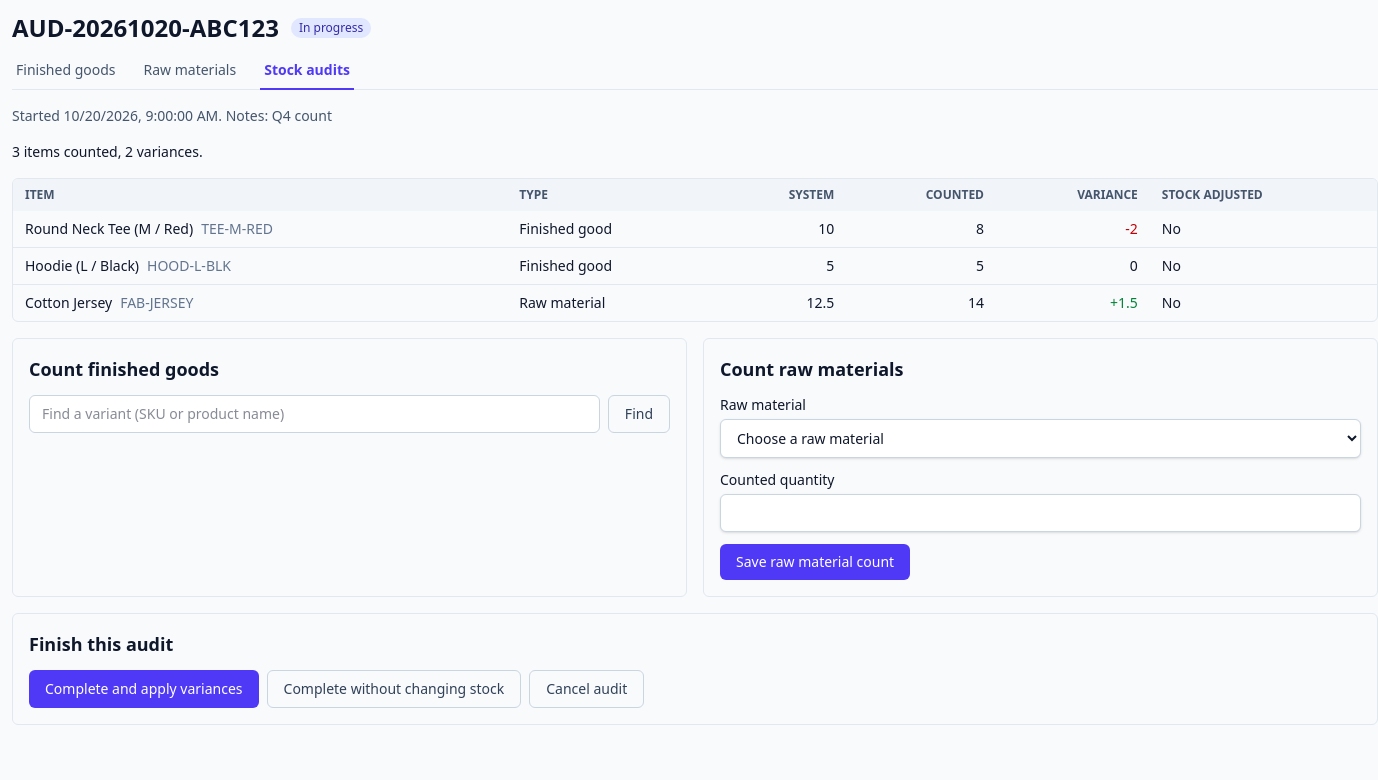
Test case: AuditDetailPage › applies variances only after an explicit confirmation
Click the button "Complete and apply variances": (144, 689) [29, 670, 258, 708]
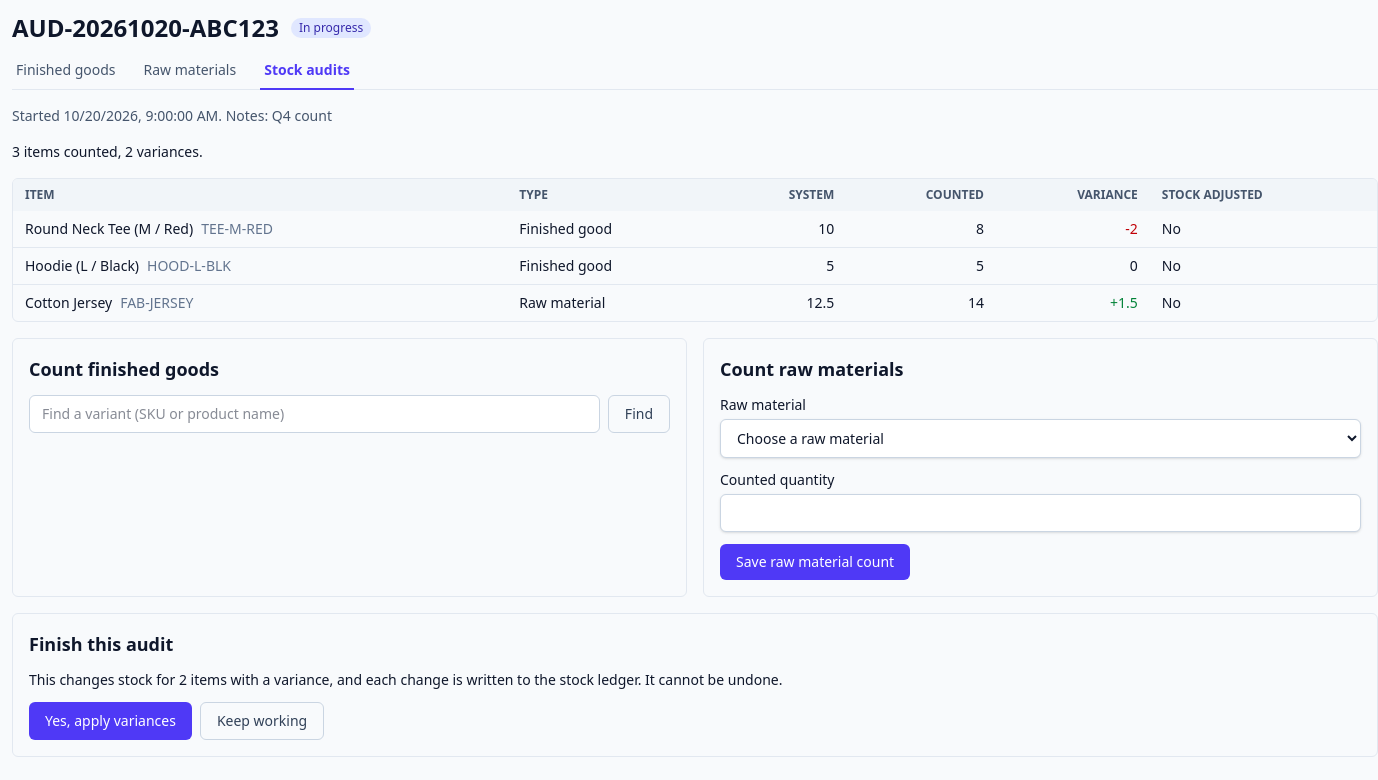
Result: the text "This changes stock for 2 items with a variance" is shown at [29, 670, 782, 689]
Click the button "Yes, apply variances": (110, 721) [29, 702, 192, 740]
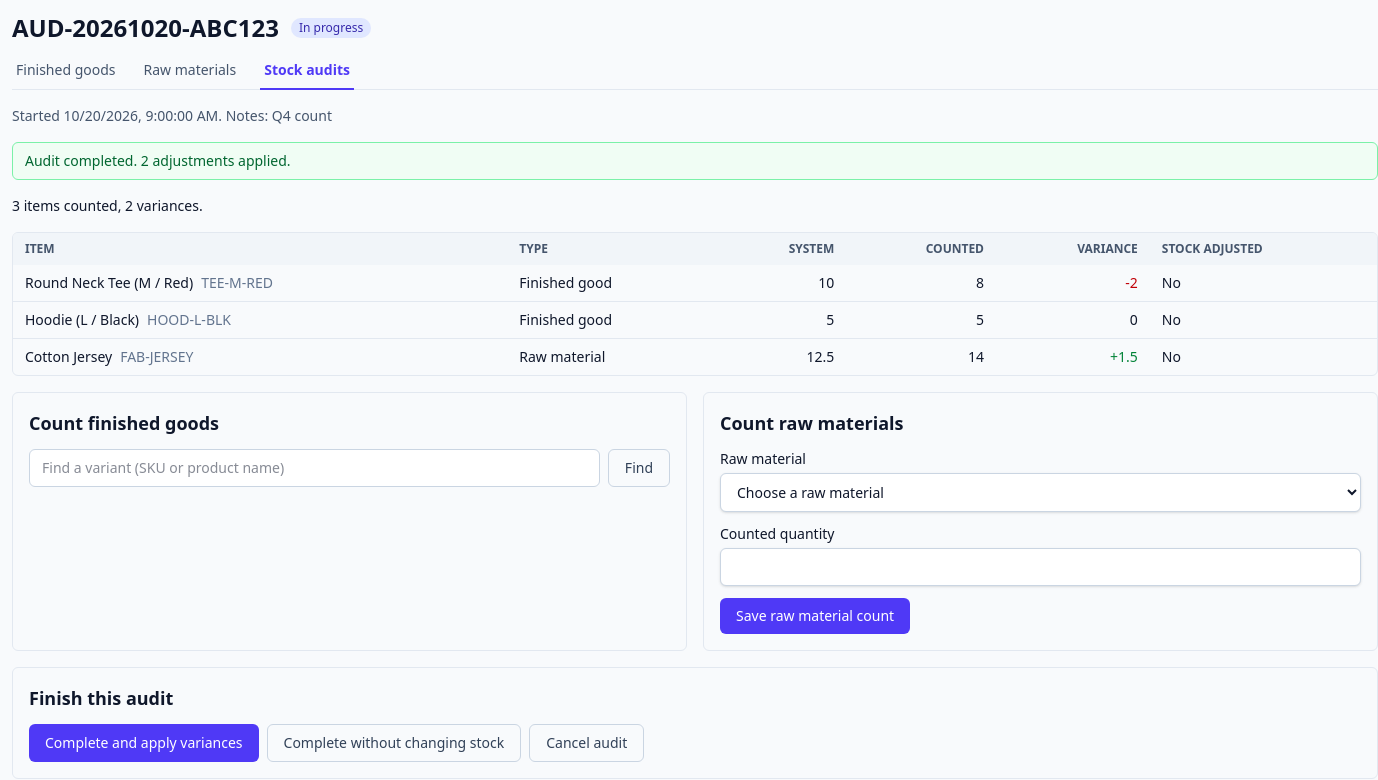
Result: the text "Audit completed. 2 adjustments applied." is shown at [12, 142, 1377, 180]
